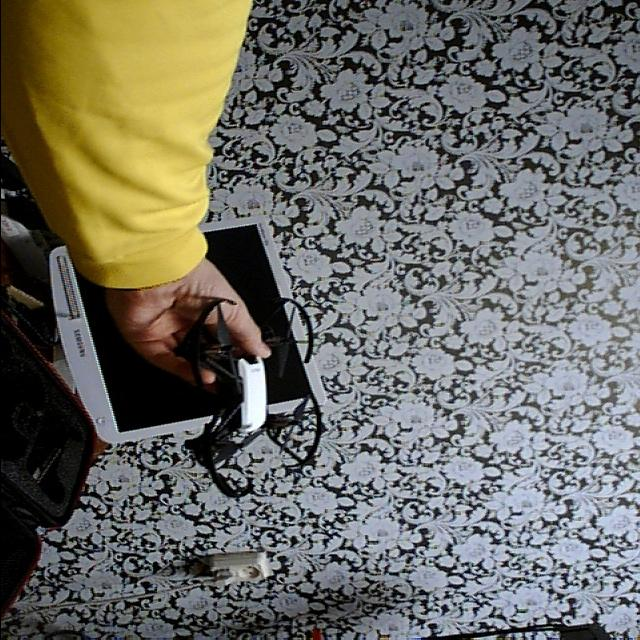drone: (166, 294, 337, 502)
